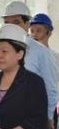hard-hat: (0, 23, 29, 48)
